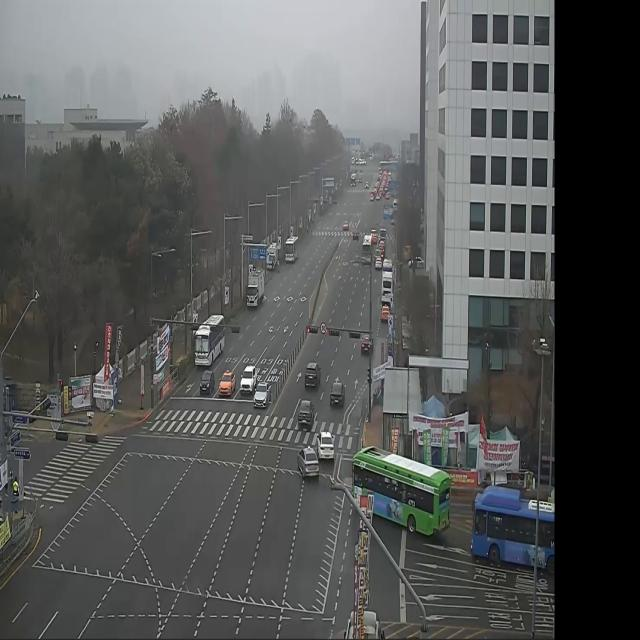car: (351, 445, 452, 539), (472, 481, 555, 576), (194, 313, 225, 367), (284, 233, 300, 264), (381, 270, 394, 306), (362, 231, 372, 268)
motorcycle: (298, 445, 320, 481), (296, 396, 314, 430), (317, 428, 335, 461), (304, 359, 321, 392), (252, 381, 272, 409), (218, 368, 236, 399), (241, 363, 257, 394), (198, 367, 215, 396), (330, 378, 345, 408), (360, 331, 374, 357)
truck: (246, 269, 266, 307)
